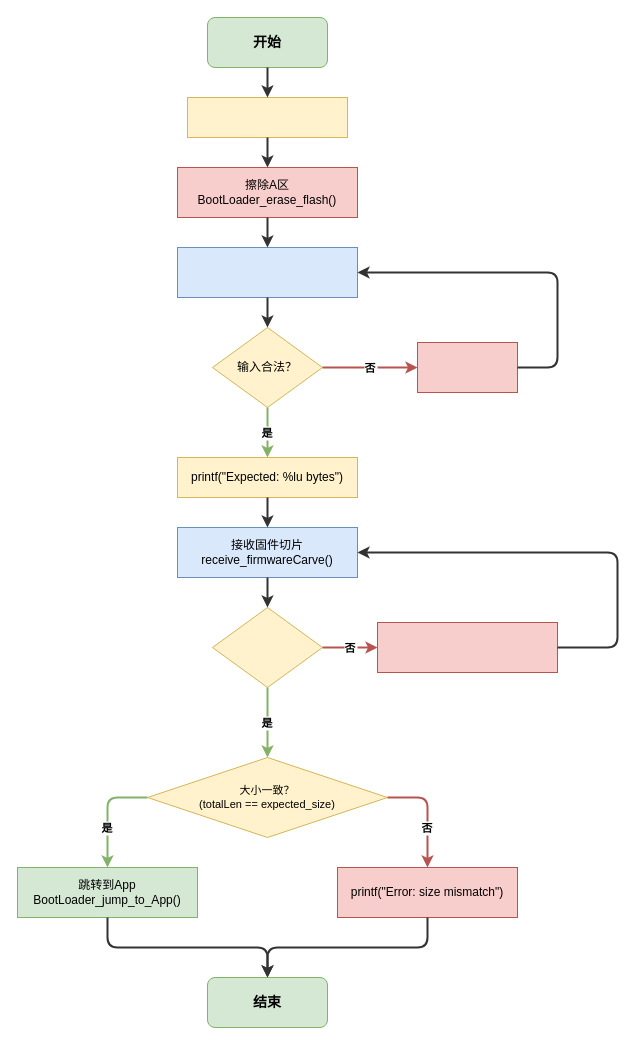
The diagram is 644 pixels wide and 1045 high, and some of its shapes have lost their labels. The centre of each missing label's shape, as x and y in pixels:
printf("Reset begin"): (x=267, y=117)
写入Flash write_firmwareCarve(): (x=467, y=647)
打印错误信息 重试: (x=467, y=367)
收到 "done"？: (x=267, y=647)
输入固件大小 receive_number_from_uart(): (x=267, y=272)
